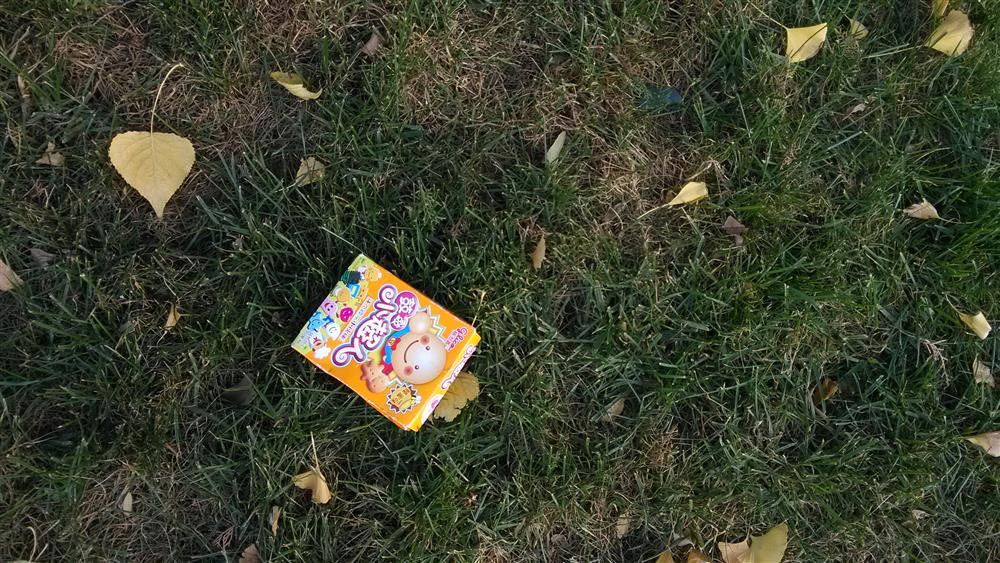glice_superman: (287, 251, 481, 433)
